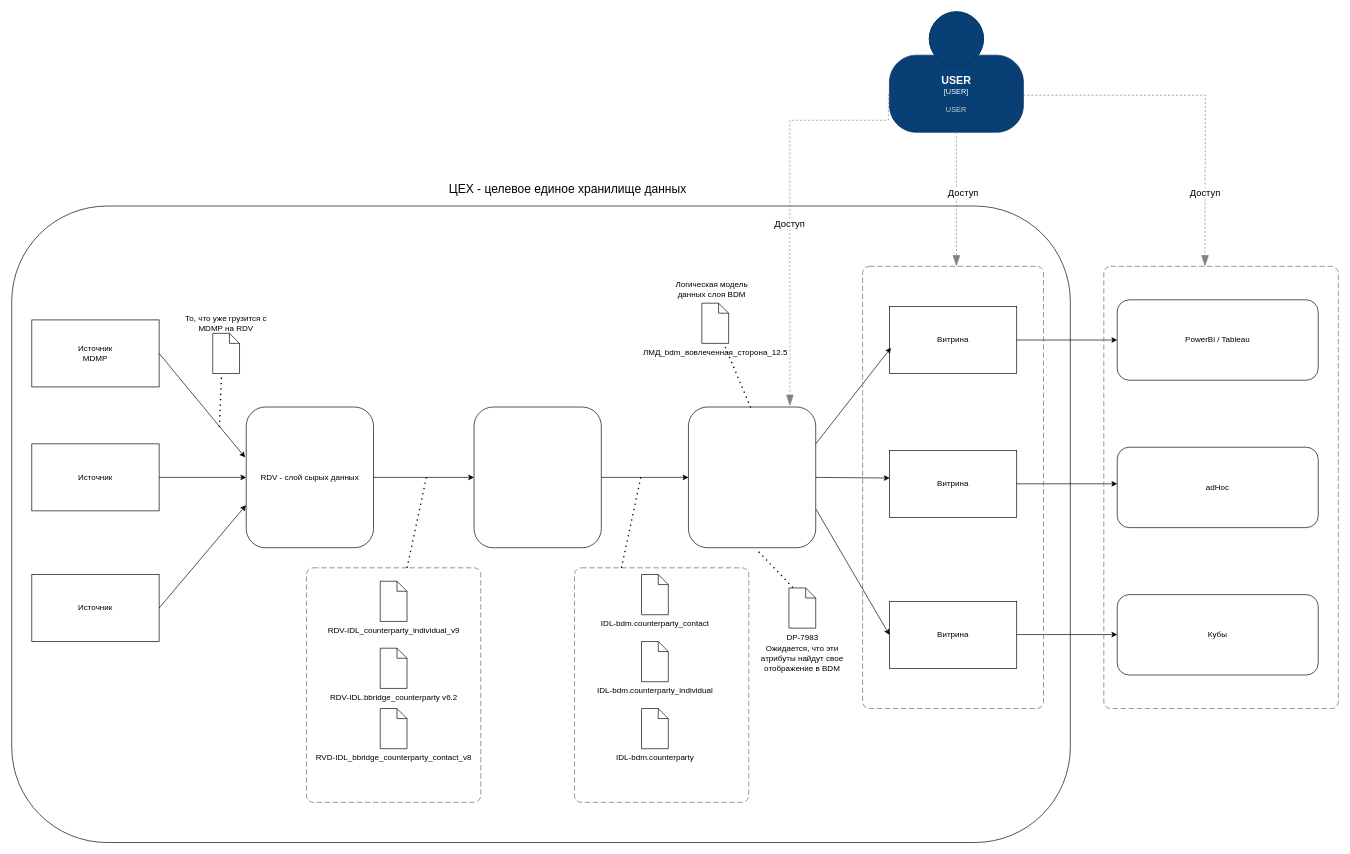
This 1350x854 diagram has some shape labels left out. Here are the shapes that lost their labels. From the top down, the box of each, then its label:
(212, 333, 240, 374): MDMP-RDV_v13.4
(473, 406, 601, 548): IDL - технический слой детальных данных
(688, 406, 816, 548): BDM - слой детальных данных
(862, 266, 1044, 709): Витрины [Витрины]
(1103, 266, 1338, 709): Внешние системы [Внешние системы]
(306, 567, 481, 802): RDV -> IDL [RDV -> IDL]
(574, 567, 749, 802): IDL -> BDM [IDL -> BDM]
